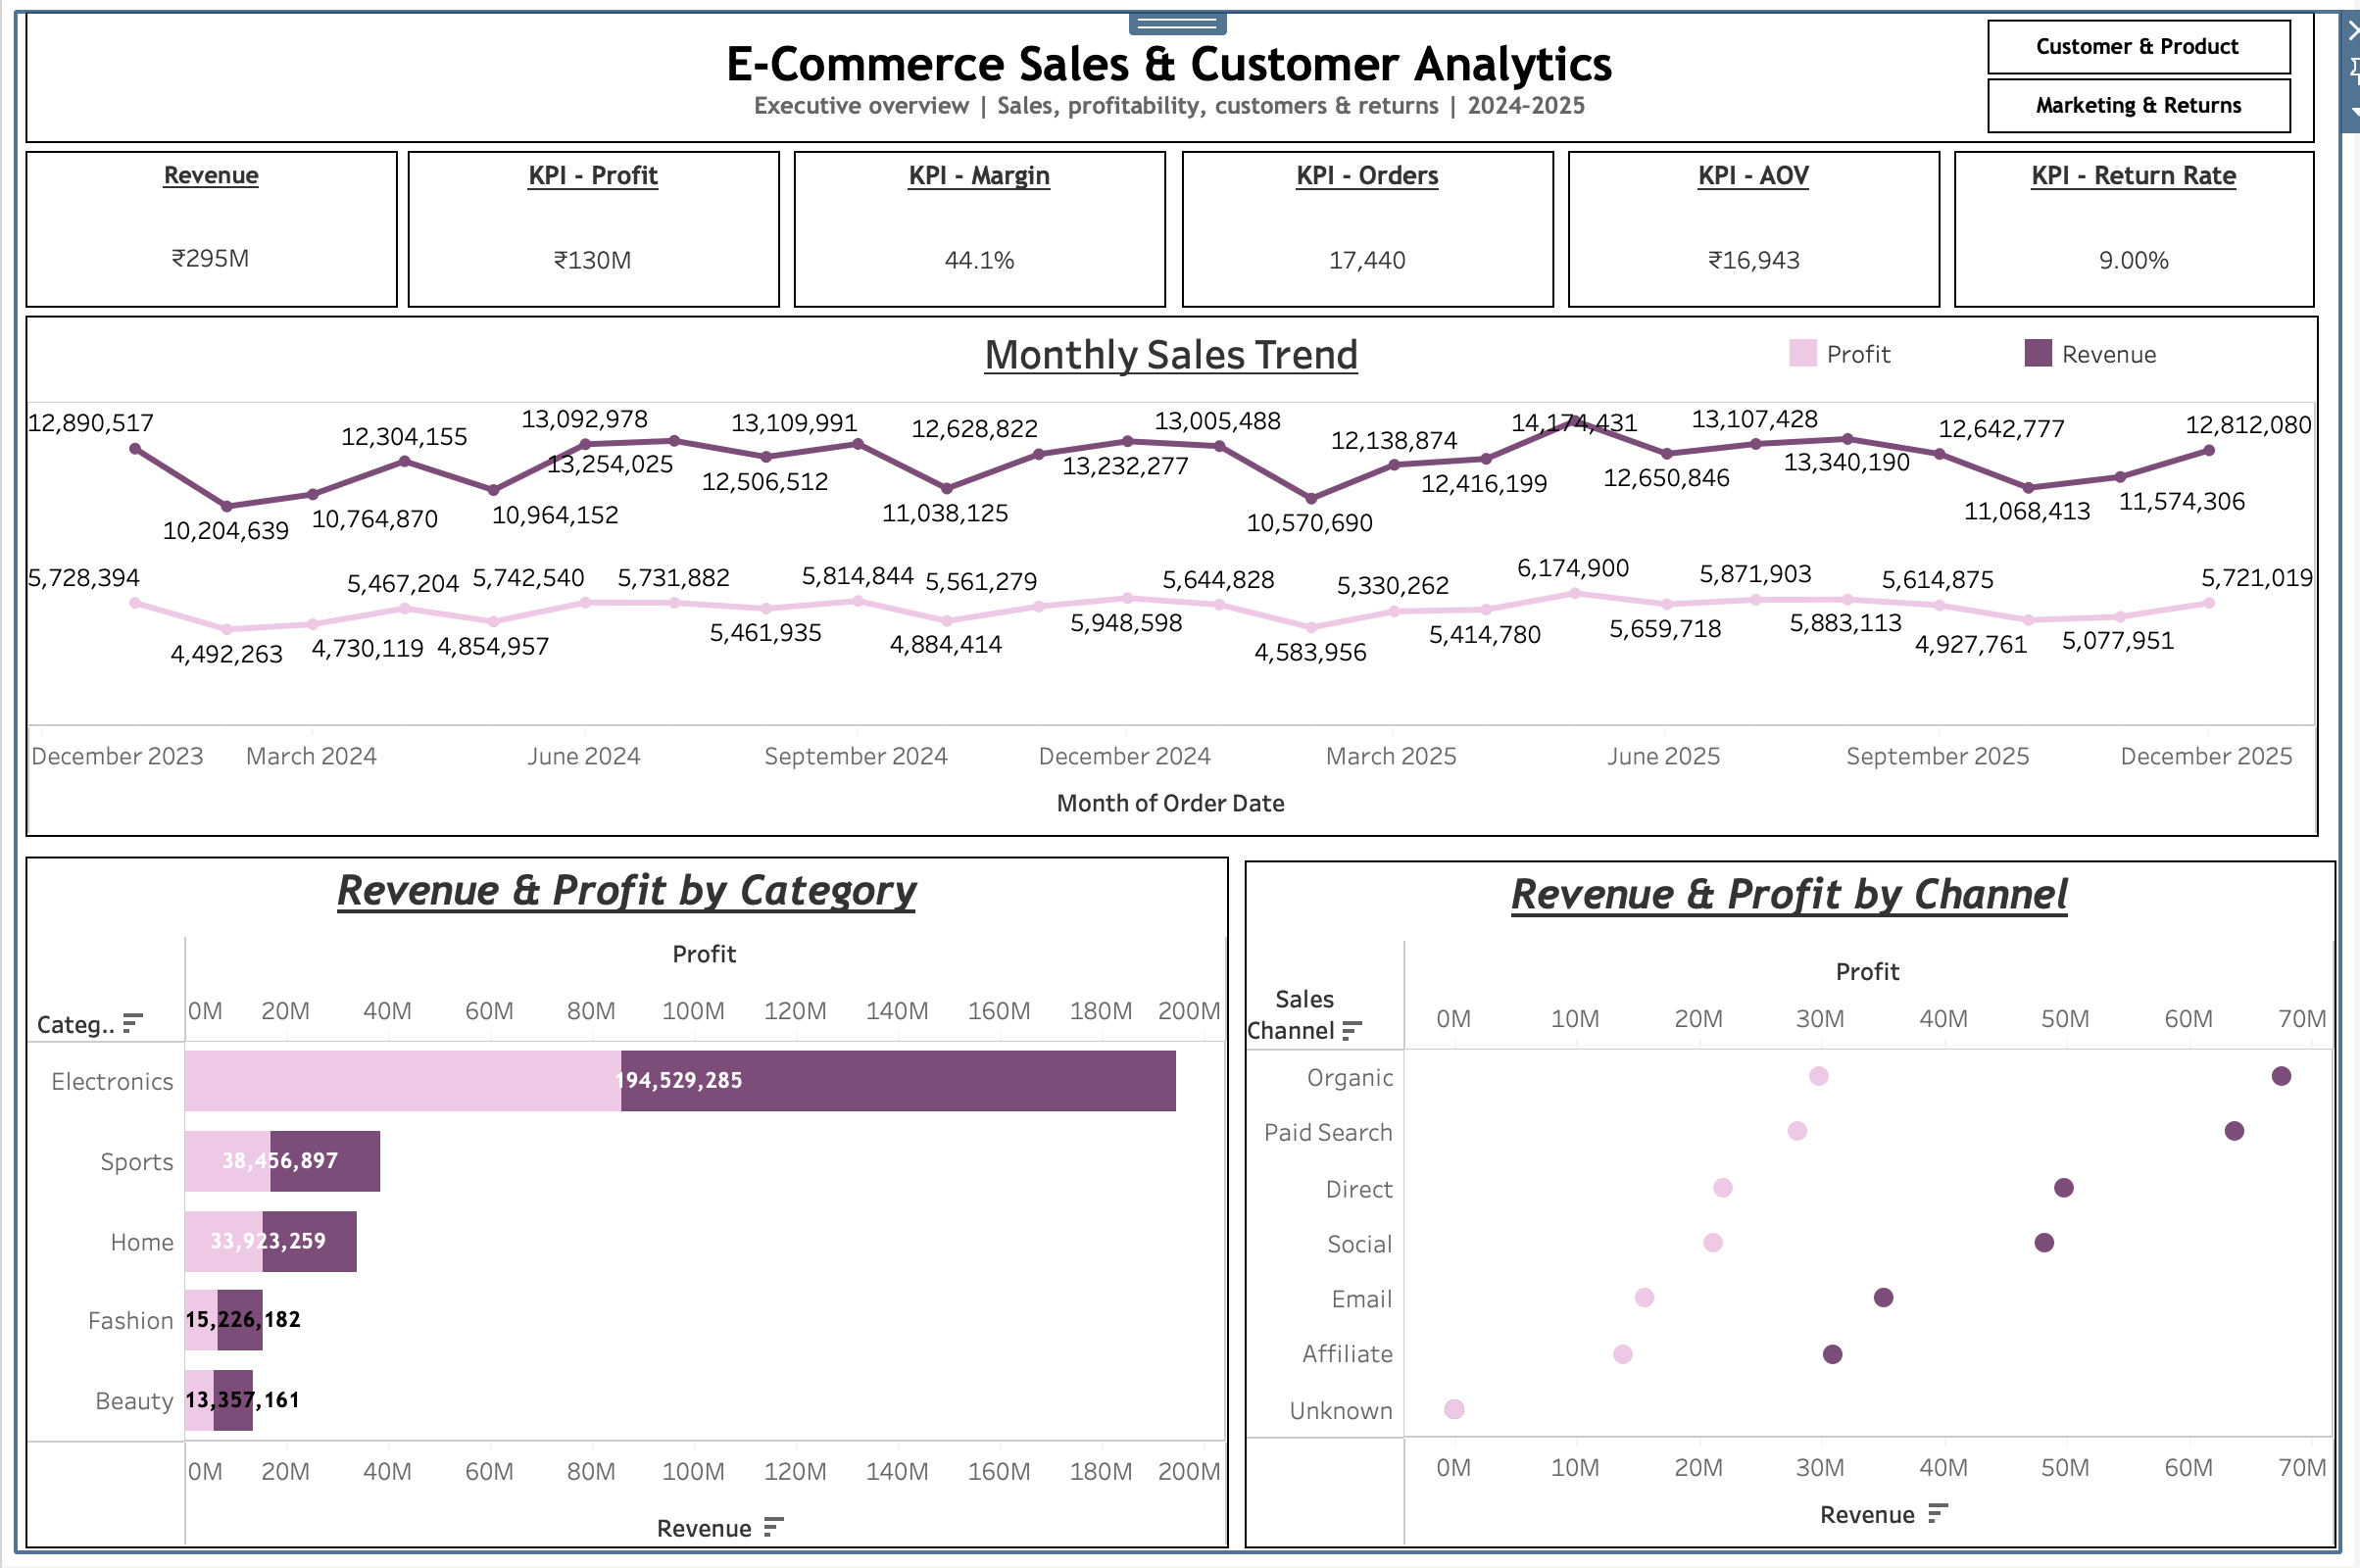

Layout of this report page (visuals, bound fields, positions):
{"tool":"tableau","page":{"name":"Executive Overview","canvas":[1200,800],"ordinal":1},"visuals":[{"type":"text","box":[12,7,1168,67]},{"type":"dashboard-object","box":[1013,11,155,28]},{"type":"dashboard-object","box":[1013,41,155,28]},{"type":"worksheet","title":"KPI - Revenue","mark":"Automatic","box":[12,78,190,80]},{"type":"worksheet","title":"KPI - Profit","mark":"Automatic","box":[207,78,190,80]},{"type":"worksheet","title":"KPI - Margin","mark":"Automatic","box":[404,78,190,80]},{"type":"worksheet","title":"KPI - Orders","mark":"Automatic","box":[602,78,190,80]},{"type":"worksheet","title":"KPI - AOV","mark":"Automatic","box":[799,78,190,80]},{"type":"worksheet","title":"KPI - Return Rate","mark":"Automatic","box":[996,78,184,80]},{"type":"worksheet","title":"Monthly Sales Trend","mark":"Automatic","rows":["revenue","profit"],"cols":["order_date"],"box":[12,162,1170,266]},{"type":"legend","title":"Monthly Sales Trend","param":"[federated.1gzx9gp1j1lm3x145ygit1gli344].[:Measure Names]","box":[909,171,265,34]},{"type":"worksheet","title":"Category Performance","mark":"Bar","rows":["category"],"cols":["revenue","profit"],"box":[12,438,614,353]},{"type":"worksheet","title":"Sales by Channel","mark":"Automatic","rows":["sales_channel"],"cols":["revenue","profit"],"box":[634,440,557,351]}]}

Visuals, with their boxes in screenshot pixels (x1, y1, x2, y2), scaled from the page's 1200x800 canvas onto the 2360x1568 screenshot:
text: [24, 14, 2321, 145]
dashboard-object: [1992, 22, 2297, 76]
dashboard-object: [1992, 80, 2297, 135]
"KPI - Revenue" worksheet: [24, 153, 397, 310]
"KPI - Profit" worksheet: [407, 153, 781, 310]
"KPI - Margin" worksheet: [795, 153, 1168, 310]
"KPI - Orders" worksheet: [1184, 153, 1557, 310]
"KPI - AOV" worksheet: [1571, 153, 1945, 310]
"KPI - Return Rate" worksheet: [1959, 153, 2321, 310]
"Monthly Sales Trend" worksheet: [24, 318, 2325, 839]
"Monthly Sales Trend" legend: [1788, 335, 2309, 402]
"Category Performance" worksheet (Bar marks): [24, 858, 1231, 1550]
"Sales by Channel" worksheet: [1247, 862, 2342, 1550]
